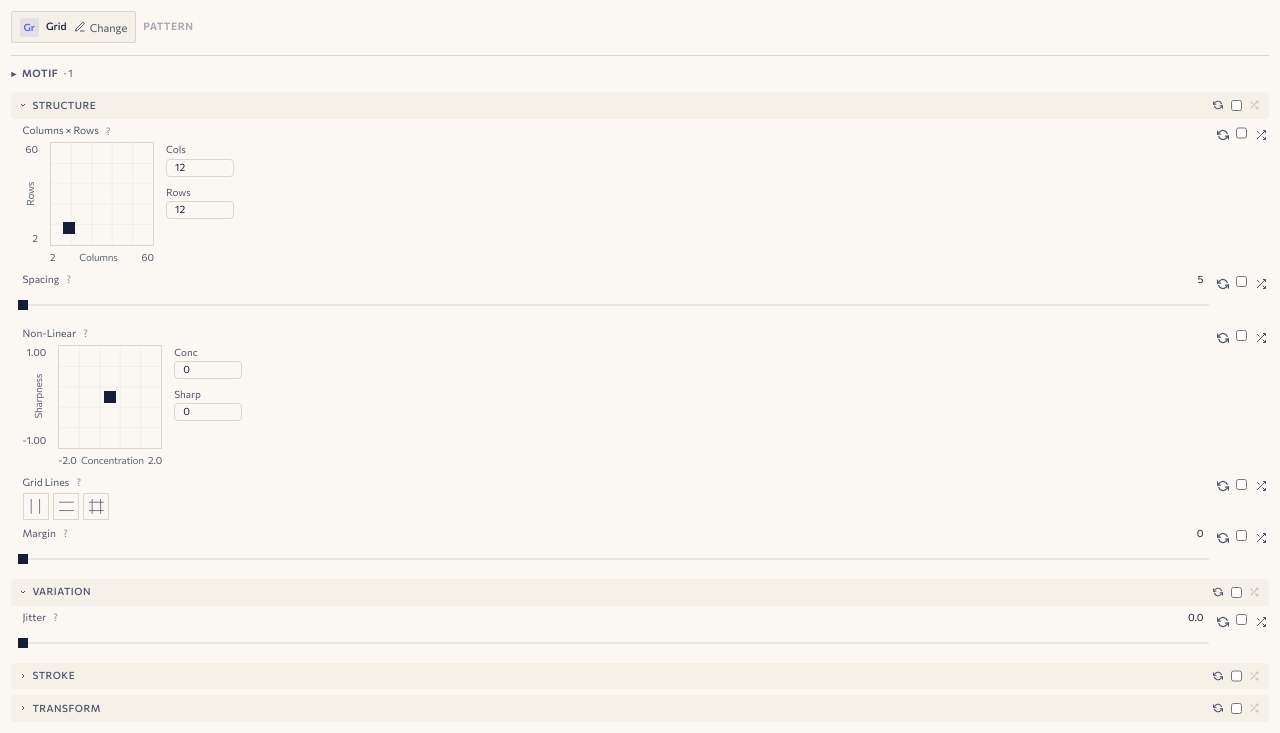
Test: Sequencer card (C3) › renders a glyph thumbnail per glyph slot + a Rest chip for a rest slot
Click the button with test id "motif-toggle": (40, 73) [11,67,1269,81]
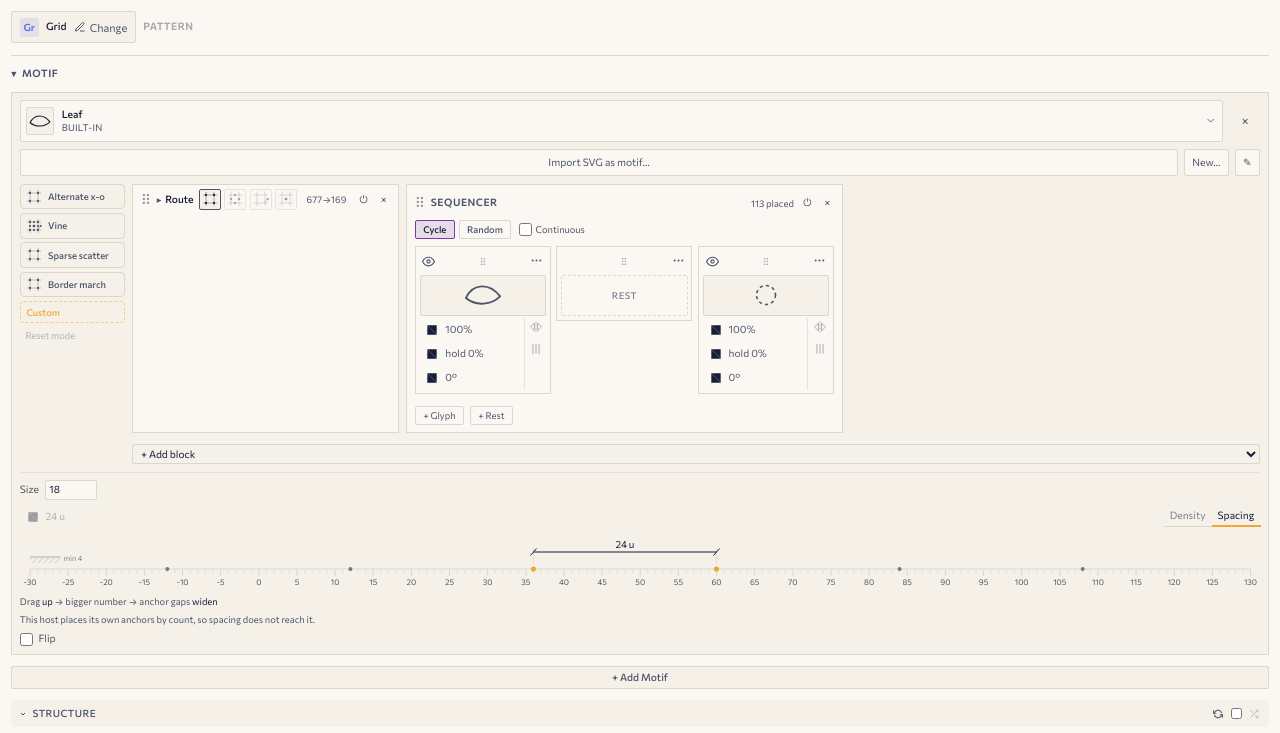
expect the number of elements with test id "motif-slot" is 3: met, box [415,246,551,394]; [556,246,692,320]; [698,246,834,394]
expect the number of buttons with test id "motif-slot-edit" is 2: met, box [420,275,546,316]; [703,275,829,316]
expect the text "Rest" is shown: met, box [561,275,688,316]
